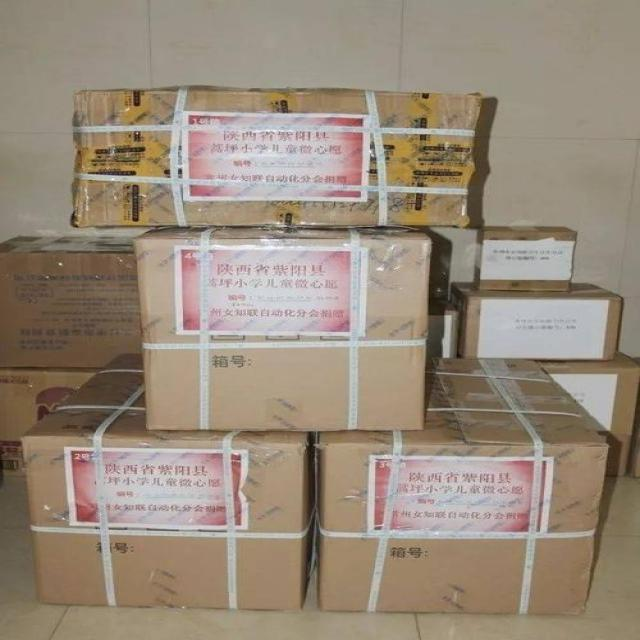box: (20, 354, 316, 611), (316, 357, 608, 614), (133, 225, 430, 431), (71, 85, 482, 228), (0, 236, 143, 368), (450, 282, 621, 360), (534, 351, 639, 475), (0, 368, 102, 477), (473, 226, 577, 290), (426, 300, 460, 358), (626, 387, 639, 477)
